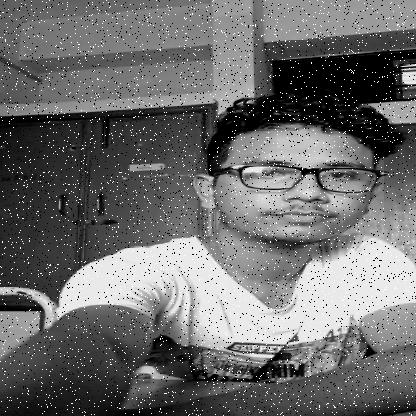Normal: (209, 110, 384, 246)
